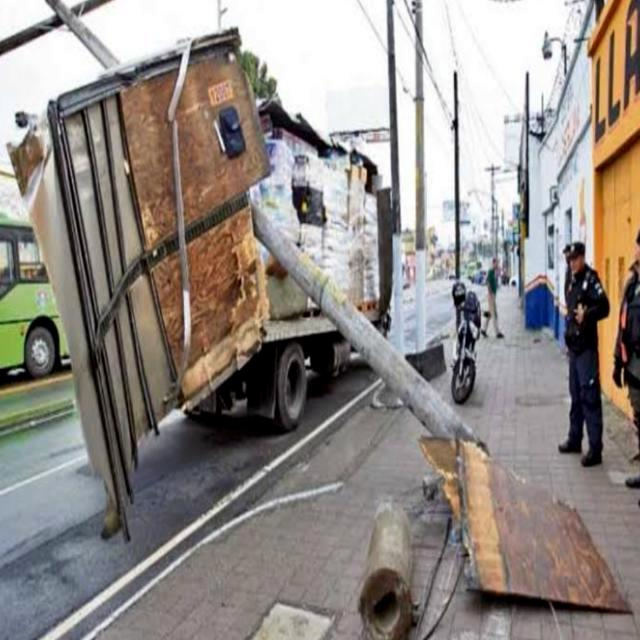Broken Pole: (0, 0, 491, 452)
